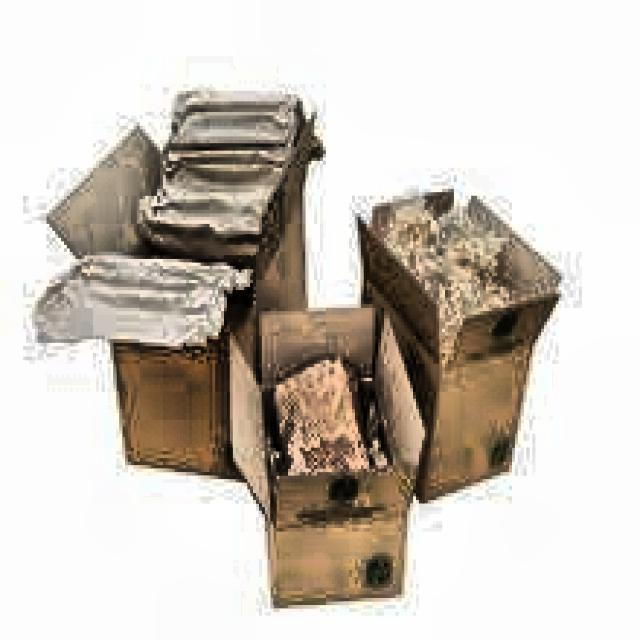cardboard: (354, 182, 562, 504)
